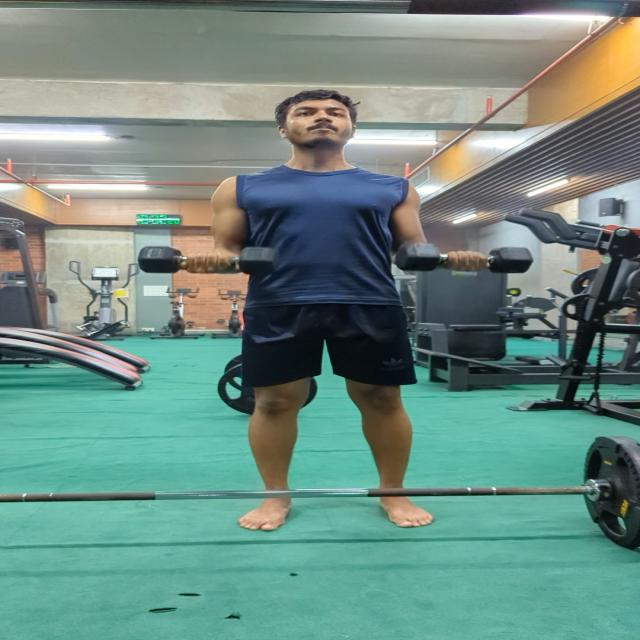Normal_DumbbellBicepCurls: (127, 86, 540, 534)
